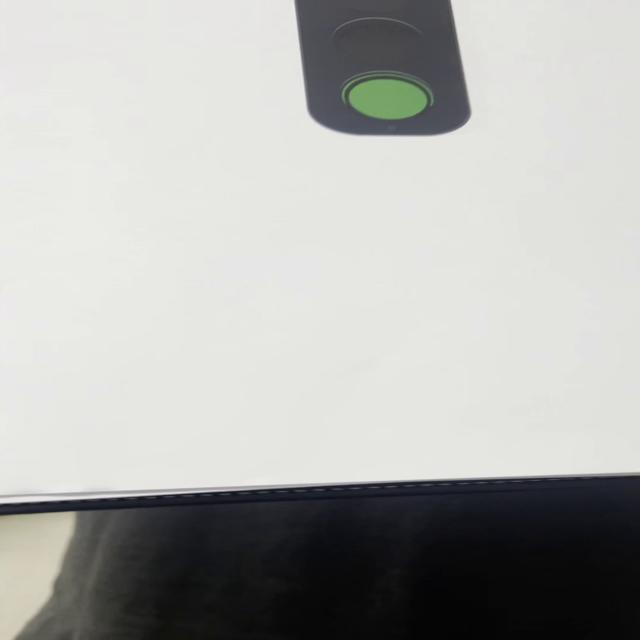green: (294, 1, 473, 136)
